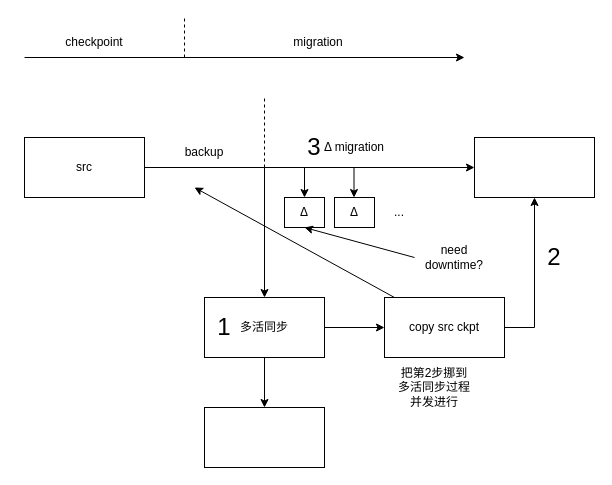
The diagram is 612 pixels wide and 485 high, and some of its shapes have lost their labels. Each missing label, with the centre of its shape:
"dst" belongs at (534,167).
"src'" belongs at (264,437).
